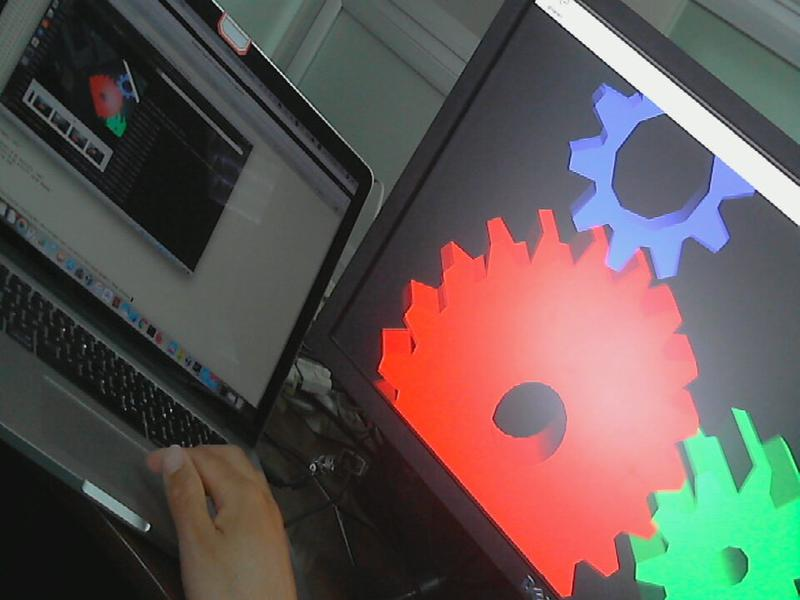glxgears_pass: (369, 5, 800, 598)
